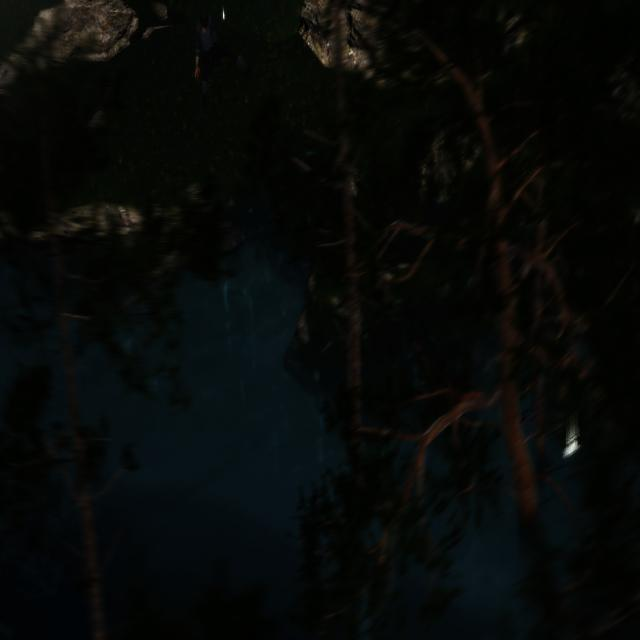Human: (189, 8, 258, 114)
